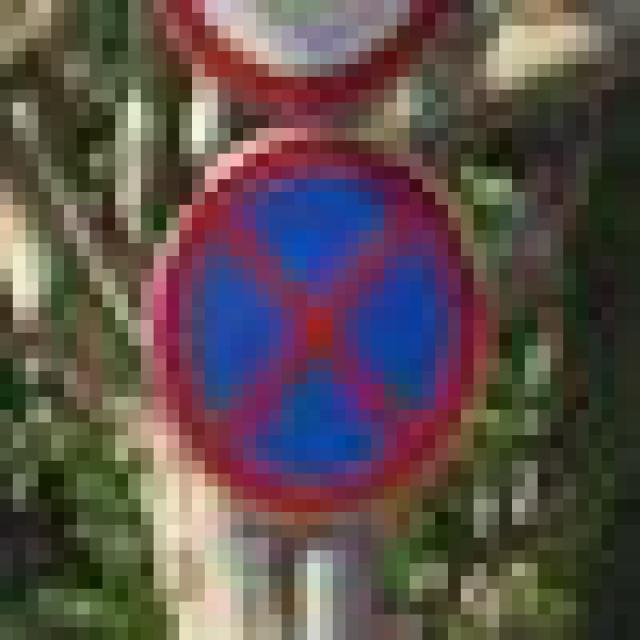no_parking: (140, 115, 473, 512)
